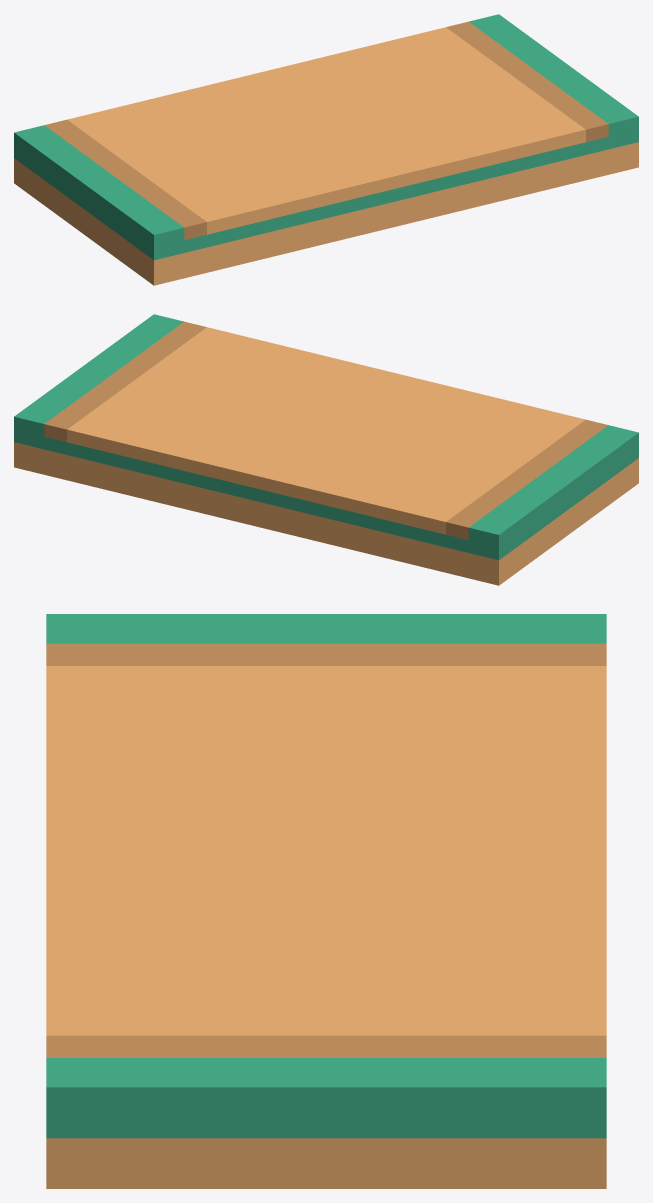
File: tile_wideStraight(+).fbx
The picture shows the model from 3 angles, top to bottom: view 1: azimuth 30°, elevation 25°; view 2: azimuth 150°, elevation 25°; view 3: azimuth 270°, elevation 25°; orthographic projection. The views are drawn at different scales.
Visible parts, largest first — view 1: Mesh_2; view 2: Mesh_2; view 3: Mesh_2.
Boxes of the visible parts, <box> form: Mesh_2: <box>14,14,638,285</box>; Mesh_2: <box>14,314,638,585</box>; Mesh_2: <box>46,614,606,1188</box>.
Bounding box in the file's own units: 200 × 20 × 100.
